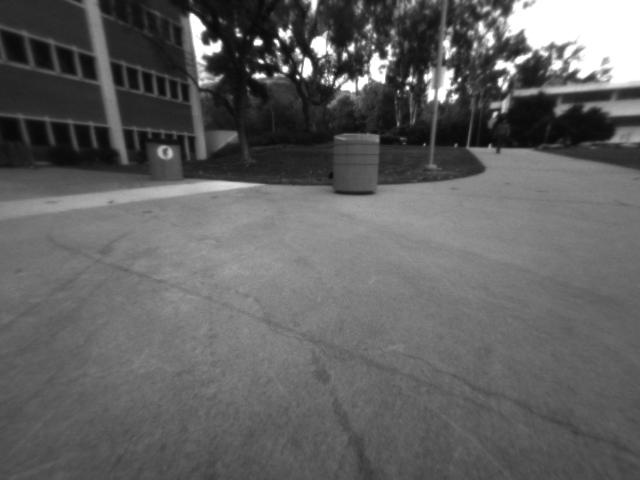trashcan: (326, 128, 386, 199), (137, 133, 188, 186)
